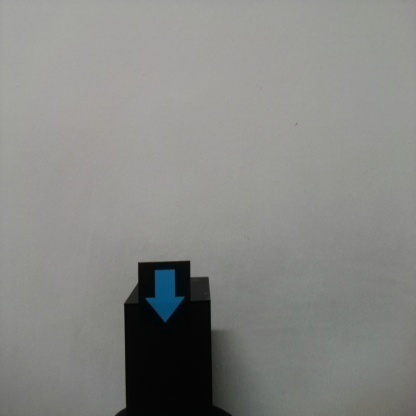id_2: (138, 262, 191, 330)
